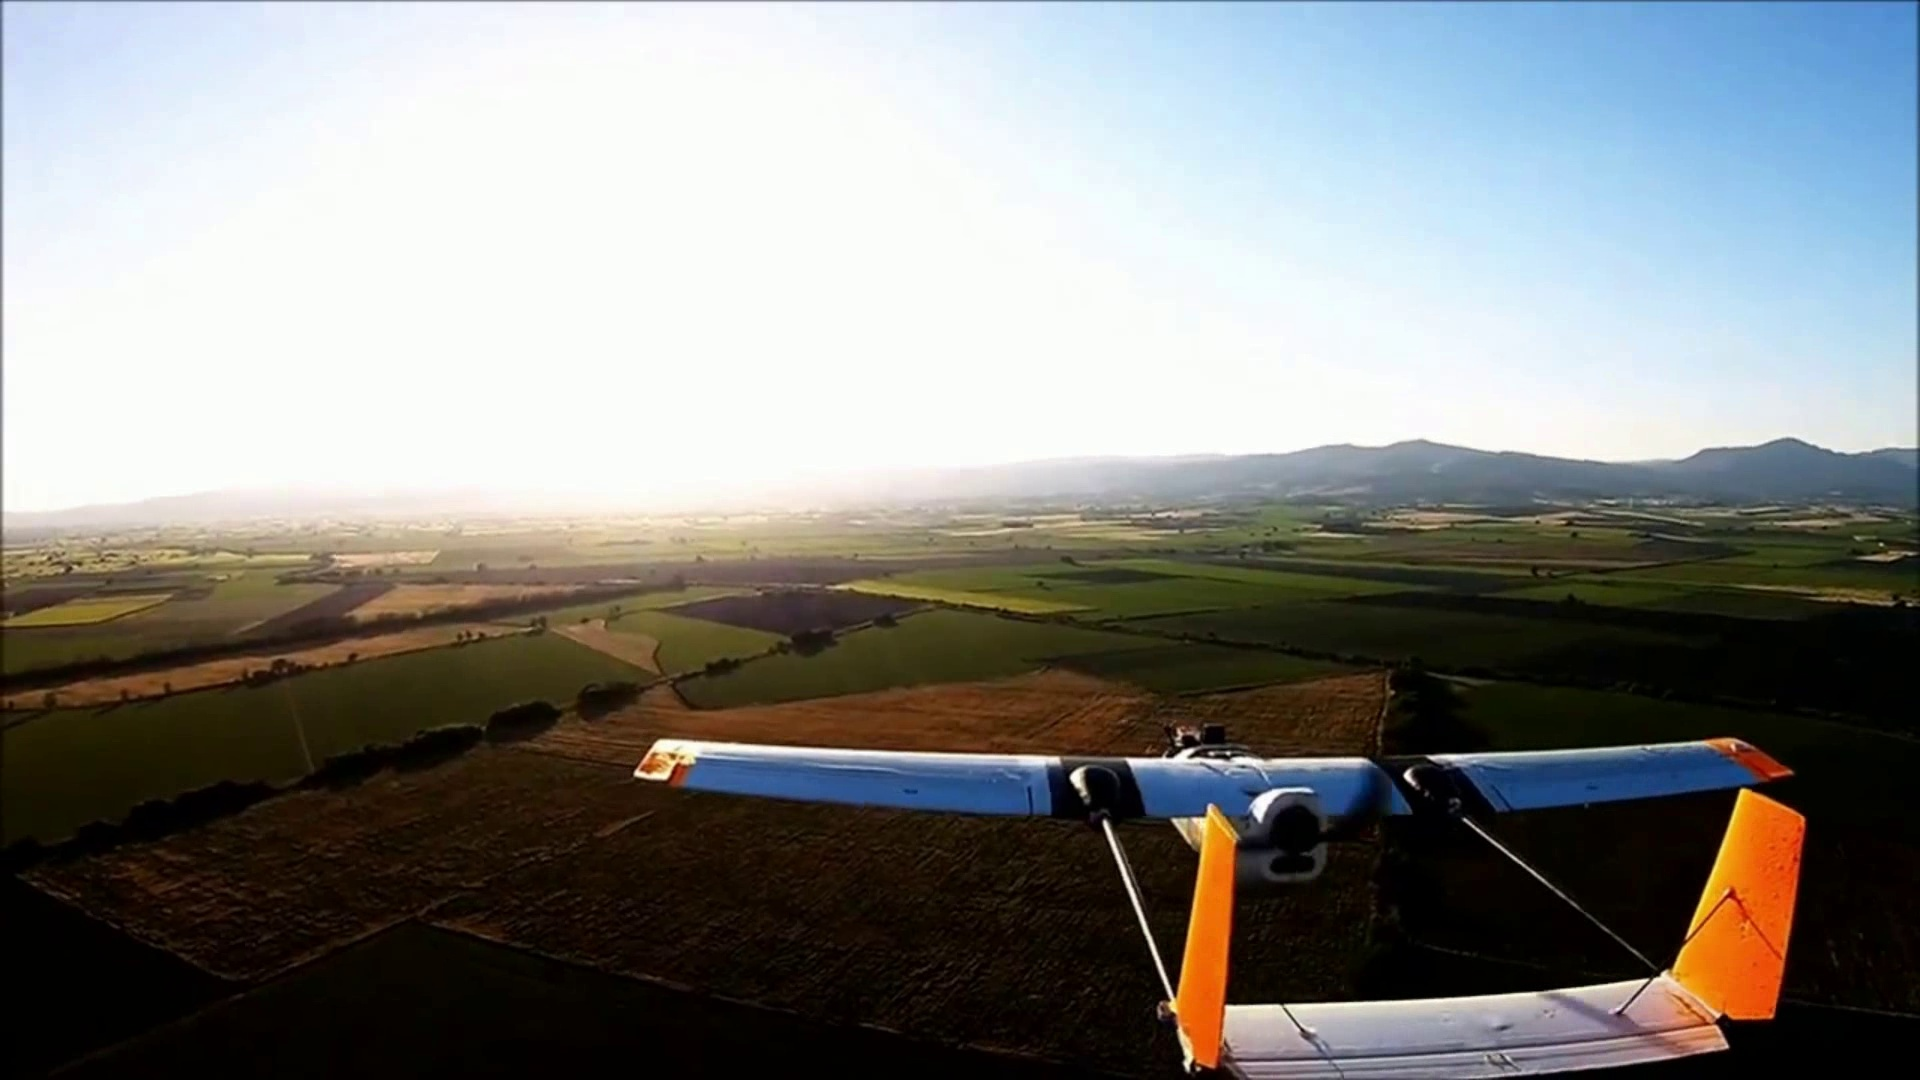airplane: (646, 746, 1809, 1071)
